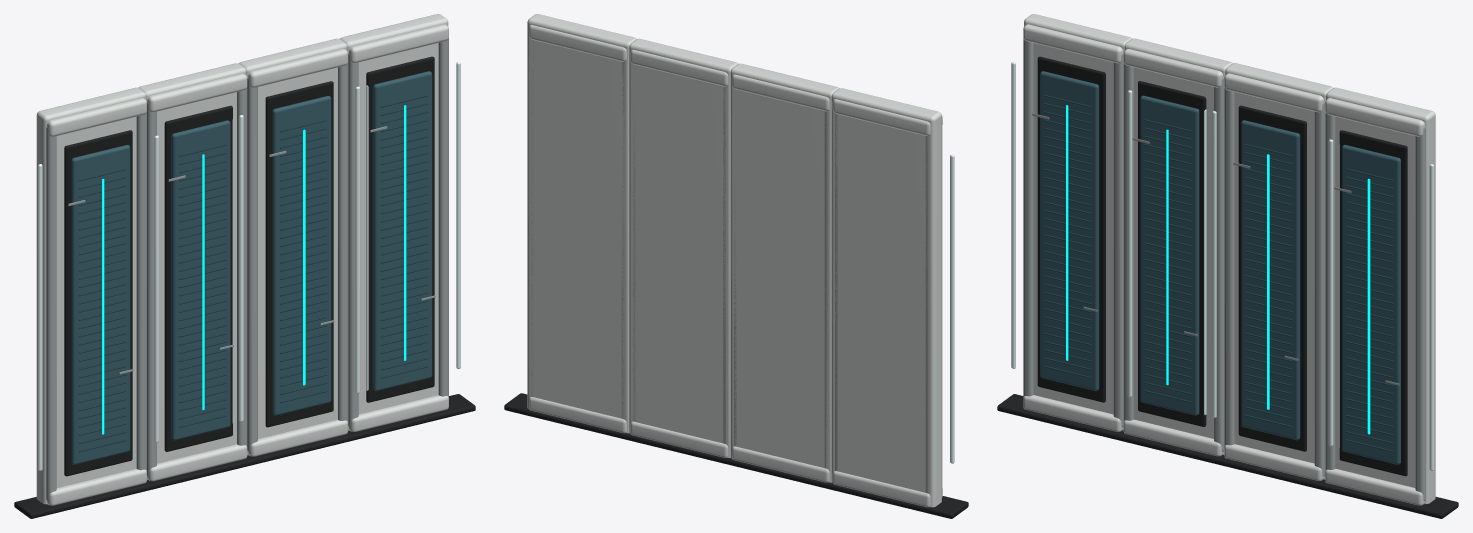
The model's file is PortalElevatorPanels.fbx.
3 views of the same model, side by side, from view 1: azimuth 30°, elevation 25°; view 2: azimuth 150°, elevation 25°; view 3: azimuth 330°, elevation 25° (orthographic).
Parts seen in each view (by area): view 1: Elevator_WallPanel_2_Rounded_Dark_Inset, Elevator_WallPanel_4_Rounded_Dark_Inset, Elevator_WallPanel_1_Rounded_Dark_Inset, Elevator_WallPanel_3_Rounded_Dark_Inset, Elevator_WallPanel_1_Main_Concrete_Backplate, Elevator_WallPanel_3_Main_Concrete_Backplate, Elevator_WallPanel_4_Main_Concrete_Backplate, Elevator_WallPanel_2_Main_Concrete_Backplate, Elevator_WallPanel_1_Black_Inset_Back_Trim, Elevator_WallPanel_2_Black_Inset_Back_Trim, Elevator_WallPanel_3_Black_Inset_Back_Trim, Long_Bottom_Wall_Base_Trim (+28 smaller); view 2: Elevator_WallPanel_1_Main_Concrete_Backplate, Elevator_WallPanel_4_Main_Concrete_Backplate, Elevator_WallPanel_3_Main_Concrete_Backplate, Elevator_WallPanel_2_Main_Concrete_Backplate, Long_Bottom_Wall_Base_Trim, Elevator_WallPanel_1_Left_Outer_Edge, Elevator_WallPanel_1_Left_White_Light_Strip, Elevator_WallPanel_1_Top_Cap, Elevator_WallPanel_3_Top_Cap, Elevator_WallPanel_2_Top_Cap, Elevator_WallPanel_4_Top_Cap, Elevator_WallPanel_1_Bottom_Cap (+8 smaller); view 3: Elevator_WallPanel_2_Rounded_Dark_Inset, Elevator_WallPanel_1_Rounded_Dark_Inset, Elevator_WallPanel_3_Rounded_Dark_Inset, Elevator_WallPanel_4_Rounded_Dark_Inset, Elevator_WallPanel_4_Main_Concrete_Backplate, Elevator_WallPanel_3_Main_Concrete_Backplate, Elevator_WallPanel_1_Main_Concrete_Backplate, Elevator_WallPanel_2_Main_Concrete_Backplate, Elevator_WallPanel_3_Black_Inset_Back_Trim, Elevator_WallPanel_1_Black_Inset_Back_Trim, Elevator_WallPanel_4_Black_Inset_Back_Trim, Long_Bottom_Wall_Base_Trim (+27 smaller).
Part boxes in pixels (x1,y1,x2,y2): Elevator_WallPanel_2_Rounded_Dark_Inset: (171,120,230,440); Elevator_WallPanel_4_Rounded_Dark_Inset: (373,71,432,391); Elevator_WallPanel_1_Rounded_Dark_Inset: (71,145,130,464); Elevator_WallPanel_3_Rounded_Dark_Inset: (272,95,331,415); Elevator_WallPanel_1_Main_Concrete_Backplate: (36,87,145,504); Elevator_WallPanel_3_Main_Concrete_Backplate: (239,38,347,455); Elevator_WallPanel_4_Main_Concrete_Backplate: (340,14,448,430); Elevator_WallPanel_2_Main_Concrete_Backplate: (138,63,246,479); Elevator_WallPanel_1_Black_Inset_Back_Trim: (64,130,132,476); Elevator_WallPanel_2_Black_Inset_Back_Trim: (164,105,232,451); Elevator_WallPanel_3_Black_Inset_Back_Trim: (265,81,333,427); Long_Bottom_Wall_Base_Trim: (14,394,475,518); Elevator_WallPanel_1_Main_Concrete_Backplate: (831,88,941,507); Elevator_WallPanel_4_Main_Concrete_Backplate: (527,14,636,433); Elevator_WallPanel_3_Main_Concrete_Backplate: (629,38,738,457); Elevator_WallPanel_2_Main_Concrete_Backplate: (730,63,839,482); Long_Bottom_Wall_Base_Trim: (504,393,968,518); Elevator_WallPanel_1_Left_Outer_Edge: (925,120,942,494); Elevator_WallPanel_1_Left_White_Light_Strip: (950,154,954,463); Elevator_WallPanel_1_Top_Cap: (832,99,942,135); Elevator_WallPanel_3_Top_Cap: (630,49,728,86); Elevator_WallPanel_2_Top_Cap: (732,74,829,111); Elevator_WallPanel_4_Top_Cap: (529,25,626,61); Elevator_WallPanel_1_Bottom_Cap: (832,471,942,507); Elevator_WallPanel_2_Rounded_Dark_Inset: (1140,95,1199,415); Elevator_WallPanel_1_Rounded_Dark_Inset: (1040,71,1099,391); Elevator_WallPanel_3_Rounded_Dark_Inset: (1241,120,1300,440); Elevator_WallPanel_4_Rounded_Dark_Inset: (1342,145,1400,464); Elevator_WallPanel_4_Main_Concrete_Backplate: (1326,87,1435,503); Elevator_WallPanel_3_Main_Concrete_Backplate: (1225,63,1333,479); Elevator_WallPanel_1_Main_Concrete_Backplate: (1024,14,1131,430); Elevator_WallPanel_2_Main_Concrete_Backplate: (1124,38,1232,454); Elevator_WallPanel_3_Black_Inset_Back_Trim: (1238,105,1306,451); Elevator_WallPanel_1_Black_Inset_Back_Trim: (1037,56,1105,402); Elevator_WallPanel_4_Black_Inset_Back_Trim: (1339,130,1407,476); Long_Bottom_Wall_Base_Trim: (997,394,1458,518).
Bounding box in the file's own units: 475 × 400 × 34.25.
